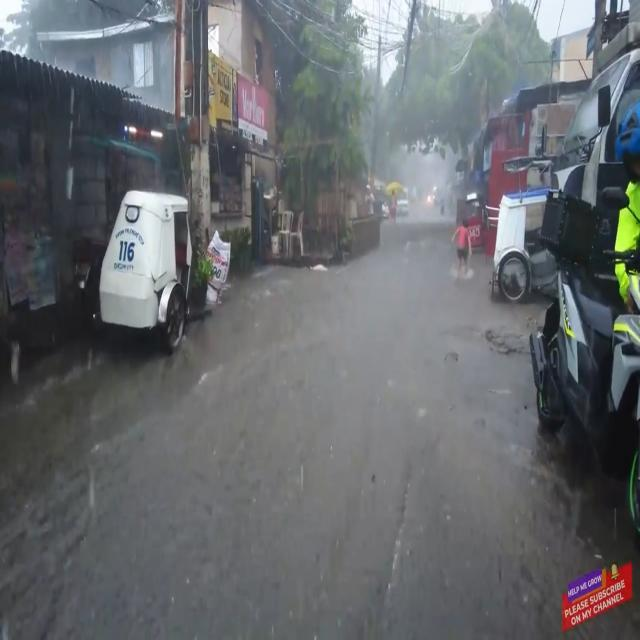half: (614, 102, 640, 185)
